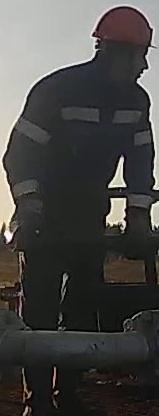gloves: (6, 190, 48, 257), (118, 199, 157, 264)
helmet: (90, 4, 156, 48)
vest: (1, 55, 158, 259)
